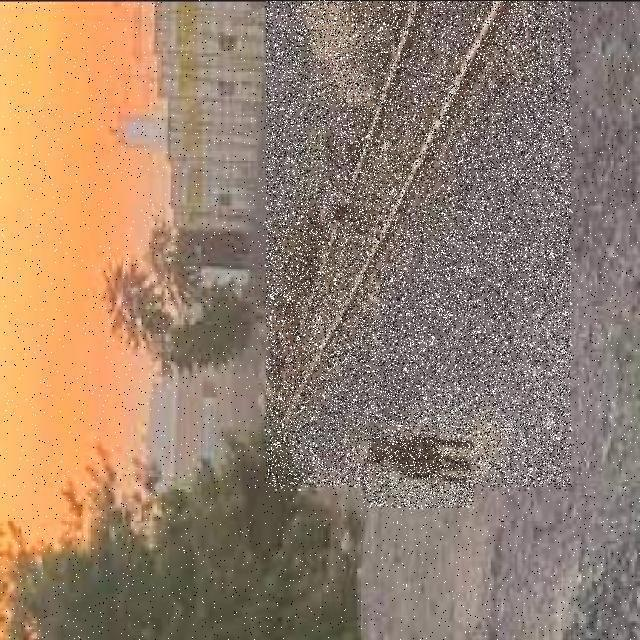rail: (268, 2, 572, 488)
